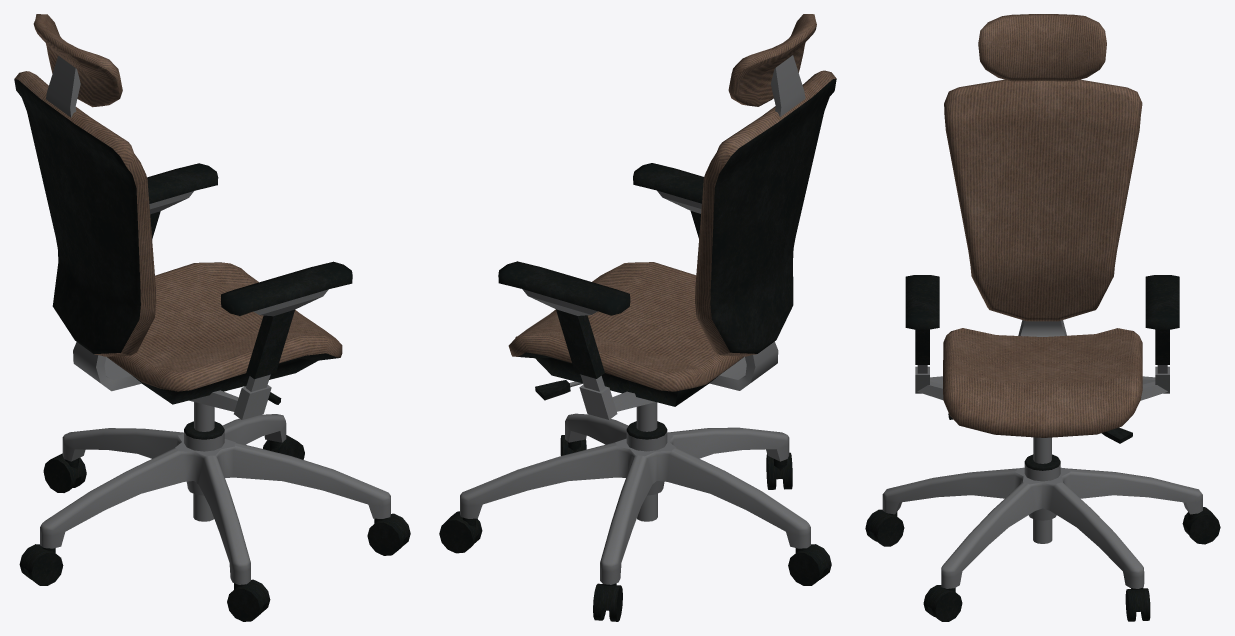
File: SM_office_chair_a_working.fbx
3 views of the same model, side by side, from view 1: azimuth 30°, elevation 25°; view 2: azimuth 150°, elevation 25°; view 3: azimuth 270°, elevation 25° (orthographic). The views are drawn at different scales.
Parts seen in each view (by area): view 1: polySurface37, polySurface36; view 2: polySurface37, polySurface36; view 3: polySurface37, polySurface36.
Boxes of the visible parts, x1,y1,x2,y2 form: polySurface37: (14, 14, 410, 621); polySurface36: (40, 56, 390, 584); polySurface37: (439, 14, 836, 621); polySurface36: (460, 55, 810, 584); polySurface37: (865, 14, 1220, 621); polySurface36: (882, 320, 1202, 588).
Bounding box in the file's own units: 0.9125 × 1.44 × 0.9584.
